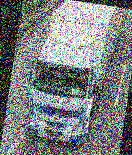truck: (17, 0, 128, 151)
